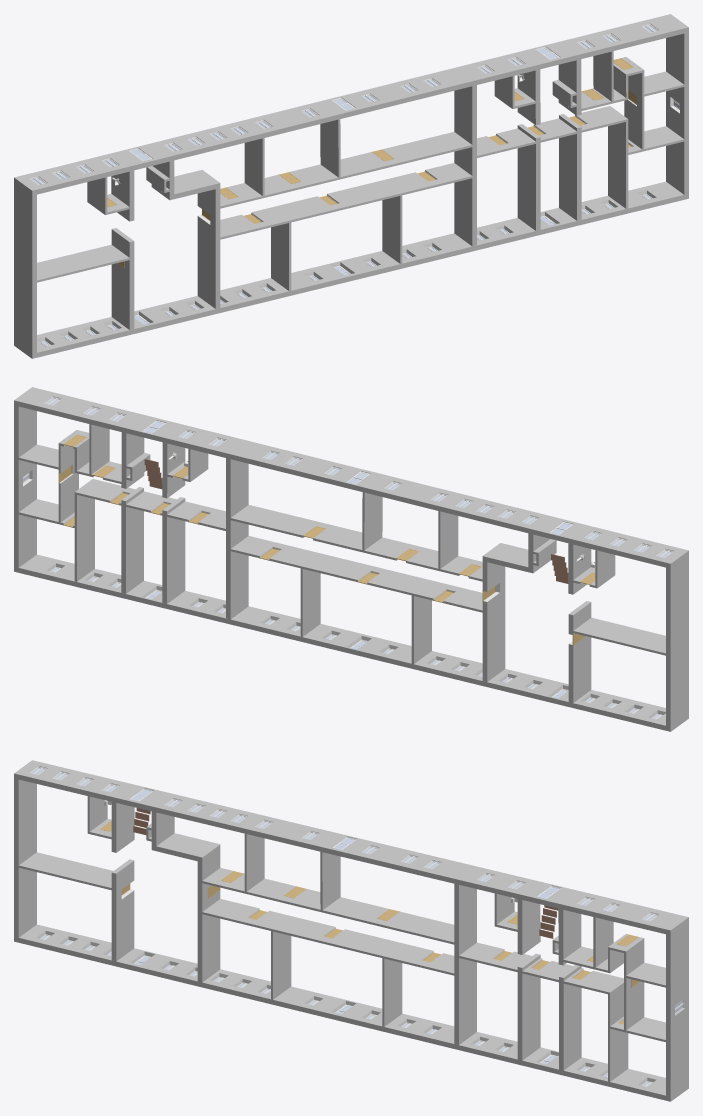
File: modeOBJ-2.obj
3 renders of one model, top to bottom at view 1: azimuth 30°, elevation 25°; view 2: azimuth 150°, elevation 25°; view 3: azimuth 330°, elevation 25°, orthographic.
Visible parts, largest first — view 1: mesh_2, mesh_1, mesh_5, mesh_12, mesh_11, mesh_3, mesh_10; view 2: mesh_2, mesh_1, mesh_5, mesh_12, mesh_3, mesh_11, mesh_0; view 3: mesh_2, mesh_1, mesh_5, mesh_12, mesh_11, mesh_3, mesh_0, mesh_6.
Boxes of the visible parts, x1,y1,x2,y2 form: mesh_2: (14,14,688,358); mesh_1: (32,27,688,358); mesh_5: (29,24,679,346); mesh_12: (107,58,636,267); mesh_11: (31,25,679,345); mesh_3: (45,23,679,344); mesh_10: (29,64,673,341); mesh_2: (14,387,688,731); mesh_1: (14,400,670,731); mesh_5: (23,397,673,719); mesh_12: (58,435,595,644); mesh_3: (23,396,665,717); mesh_11: (23,398,671,718); mesh_0: (144,459,568,583); mesh_2: (17,760,688,1096); mesh_1: (14,773,670,1101); mesh_5: (29,766,684,1086); mesh_12: (101,822,638,1024); mesh_11: (31,768,682,1086); mesh_3: (75,777,684,1085); mesh_0: (133,808,558,938); mesh_6: (14,760,688,1101).
Bounding box in the file's own units: 62.42 × 15.56 × 3.65.
